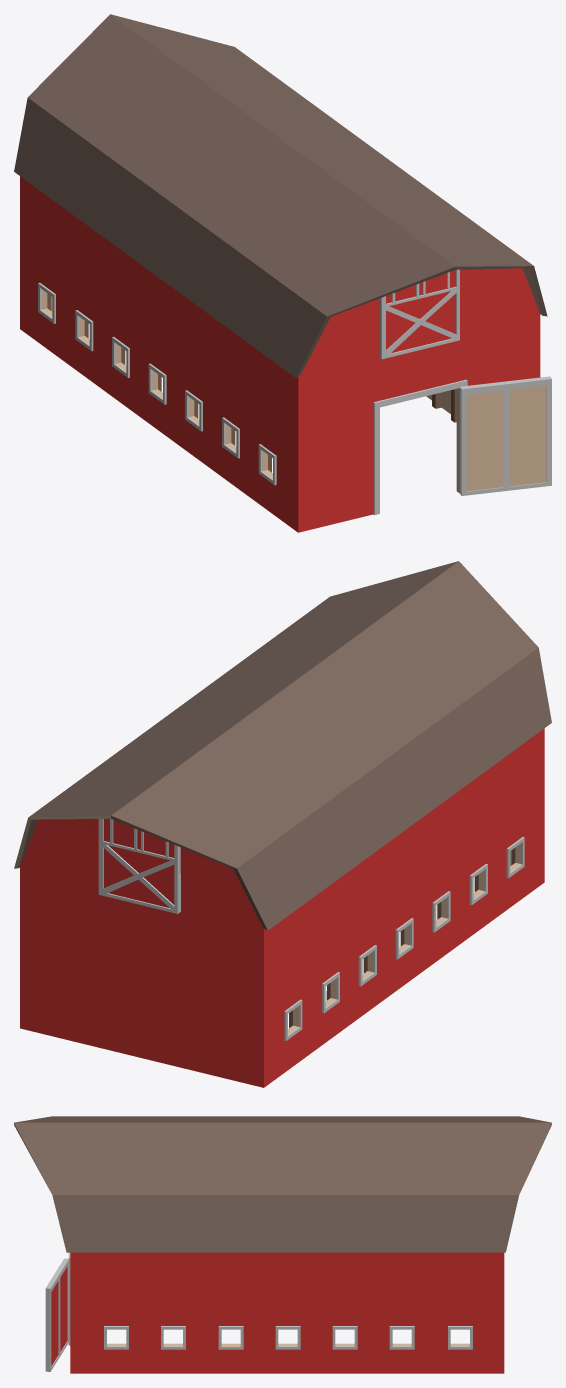
The model's file is Barn1.fbx.
3 views of the same model, one above another, from view 1: azimuth 30°, elevation 25°; view 2: azimuth 150°, elevation 25°; view 3: azimuth 270°, elevation 25° (orthographic). The views are drawn at different scales.
Parts seen in each view (by area): view 1: Plane; view 2: Plane; view 3: Plane.
Boxes of the visible parts, x1,y1,x2,y2 form: Plane: (14,14,551,532); Plane: (14,561,551,1087); Plane: (14,1116,551,1373).
Size of the model in its own units: 2353 by 2348 by 5583.
